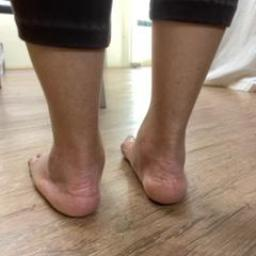Back View -Both Feet-: (15, 102, 205, 228)
